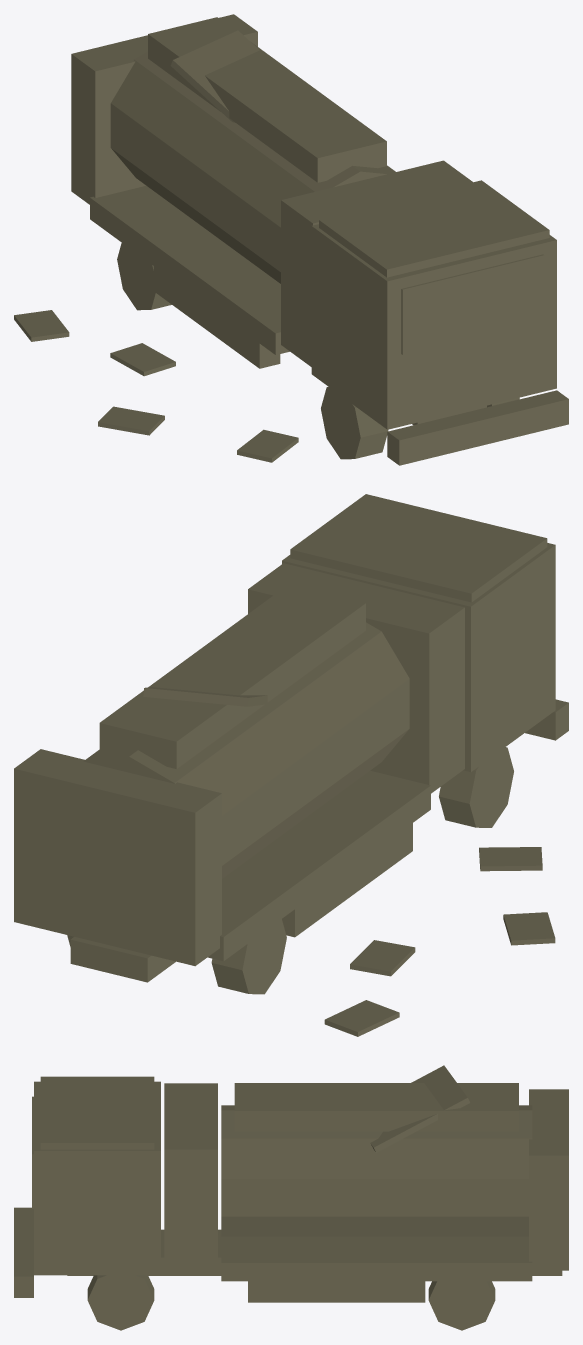
File: SM_CamionCisterna_v4_Quemado_LOD1.fbx
The picture shows the model from 3 angles, top to bottom: view 1: azimuth 30°, elevation 25°; view 2: azimuth 150°, elevation 25°; view 3: azimuth 270°, elevation 25°; orthographic projection. The views are drawn at different scales.
Parts seen in each view (by area): view 1: SM_camion_cisterna_v4_LOD1; view 2: SM_camion_cisterna_v4_LOD1; view 3: SM_camion_cisterna_v4_LOD1.
Part boxes in pixels (left/top/right/bottom): SM_camion_cisterna_v4_LOD1: left=14, top=14, right=568, bottom=465; SM_camion_cisterna_v4_LOD1: left=14, top=494, right=568, bottom=1036; SM_camion_cisterna_v4_LOD1: left=14, top=1065, right=568, bottom=1330.
Bounding box in the file's own units: 4.54 × 3.48 × 8.3.
